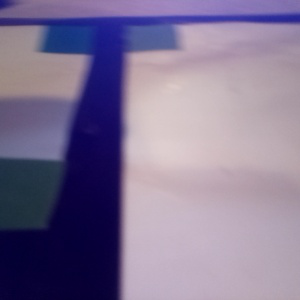bottom_left: (43, 18, 123, 54)
bottom_right: (96, 18, 178, 53)
top_left: (1, 159, 120, 300)
